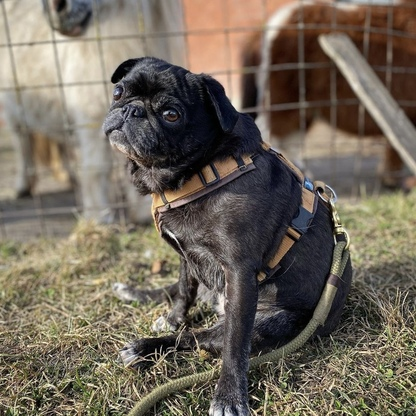Pug: (94, 51, 367, 416)
